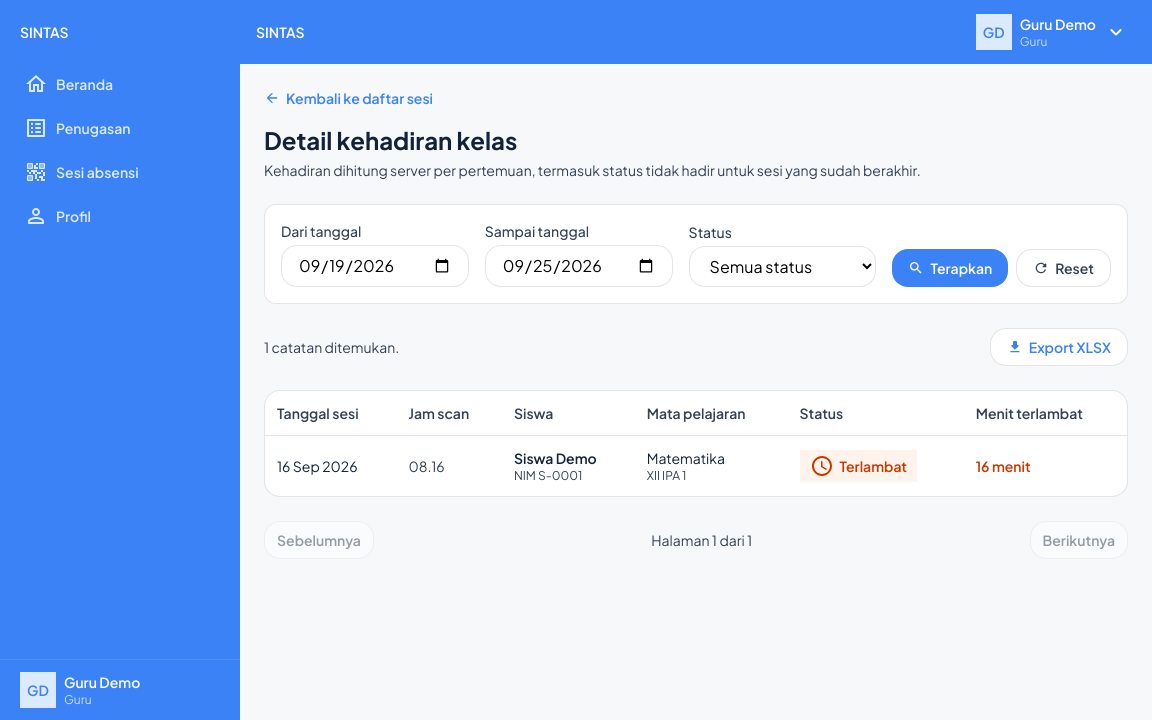
halaman detail kehadiran kelas guru › menampilkan pesan error export saat tidak ada data
Expected: the text "1 catatan ditemukan." is shown, [264,337,399,357]
Click the button "Export XLSX": (1059, 347) [990,328,1128,366]
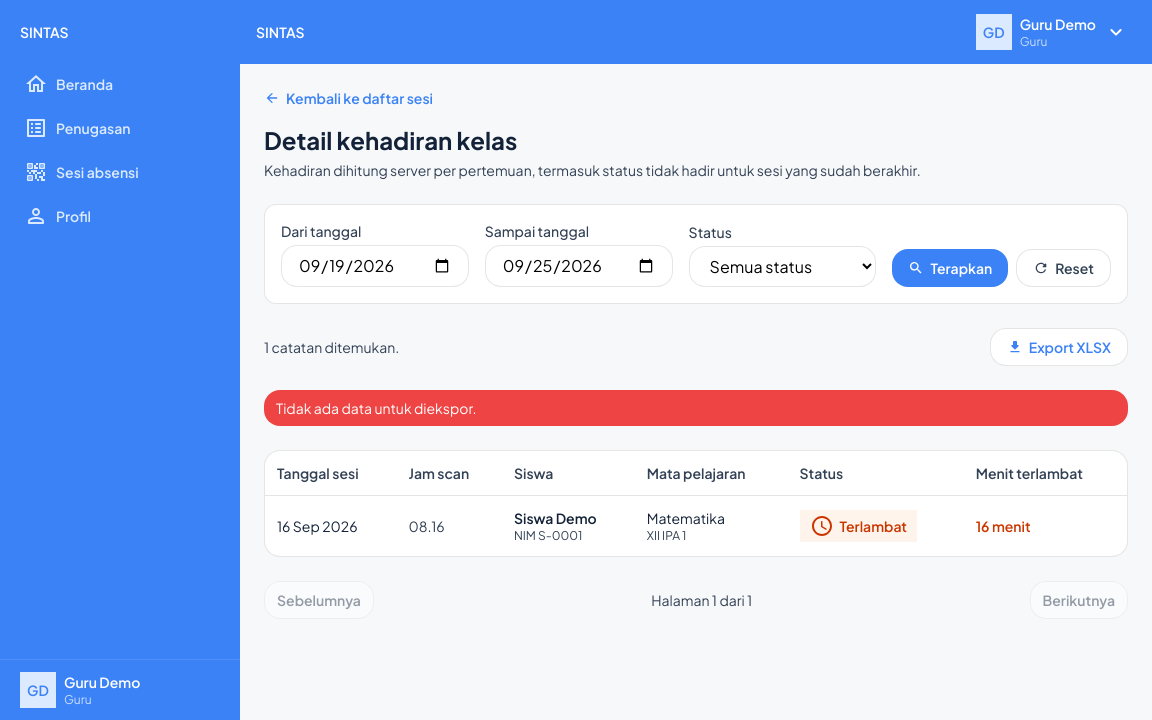
Now the message reads "Tidak ada data untuk diekspor.", box [276,399,477,417]
